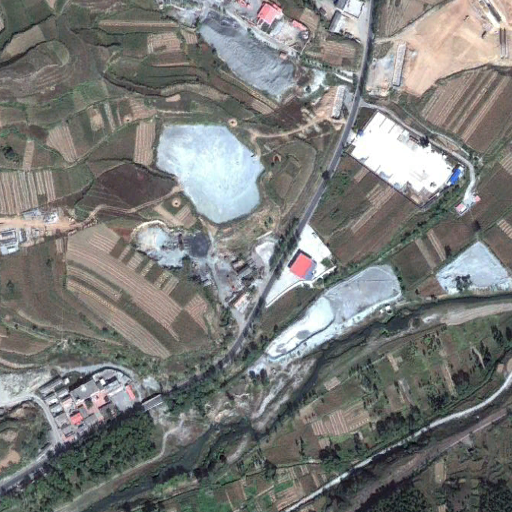tp: (263, 259, 400, 366)
